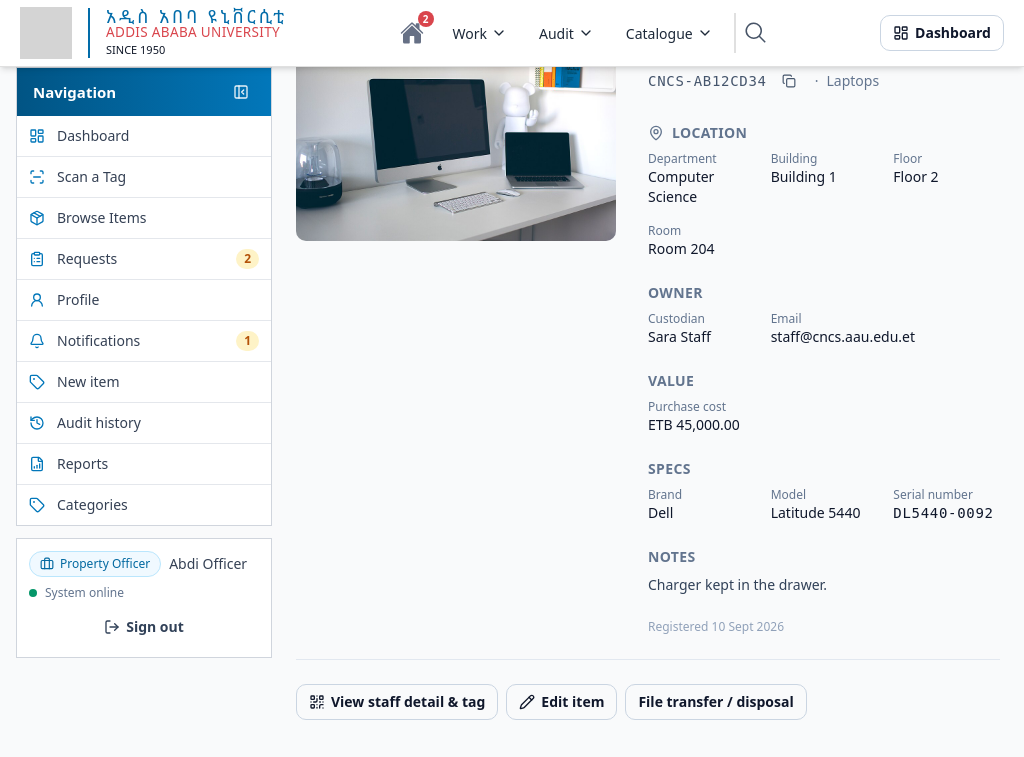
/item/:tagId — staff detail & tag disclosure › opens the tag, the bundle and the history at once, without navigating
(page scrolled)
Expected: the text "Navigation" is shown, [33, 81, 116, 103]
Click the button "View staff detail & tag" at {"x": 397, "y": 702}, box [296, 684, 498, 720]
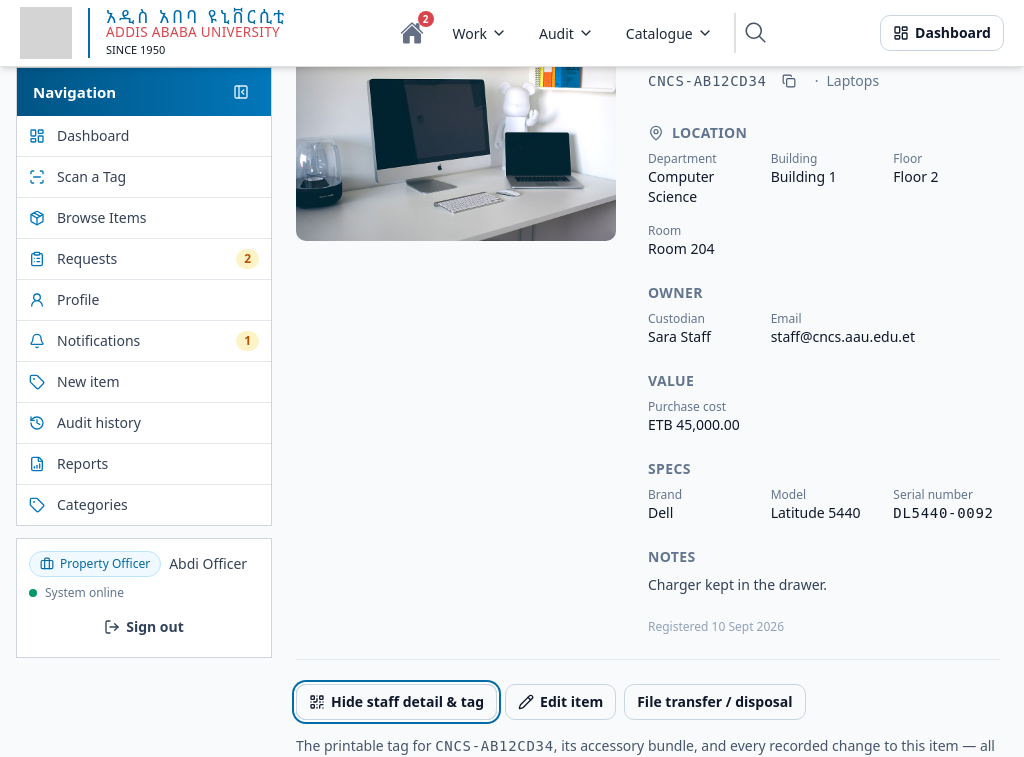
Result: the button "Hide staff detail & tag" is expanded at [296, 684, 497, 720]
